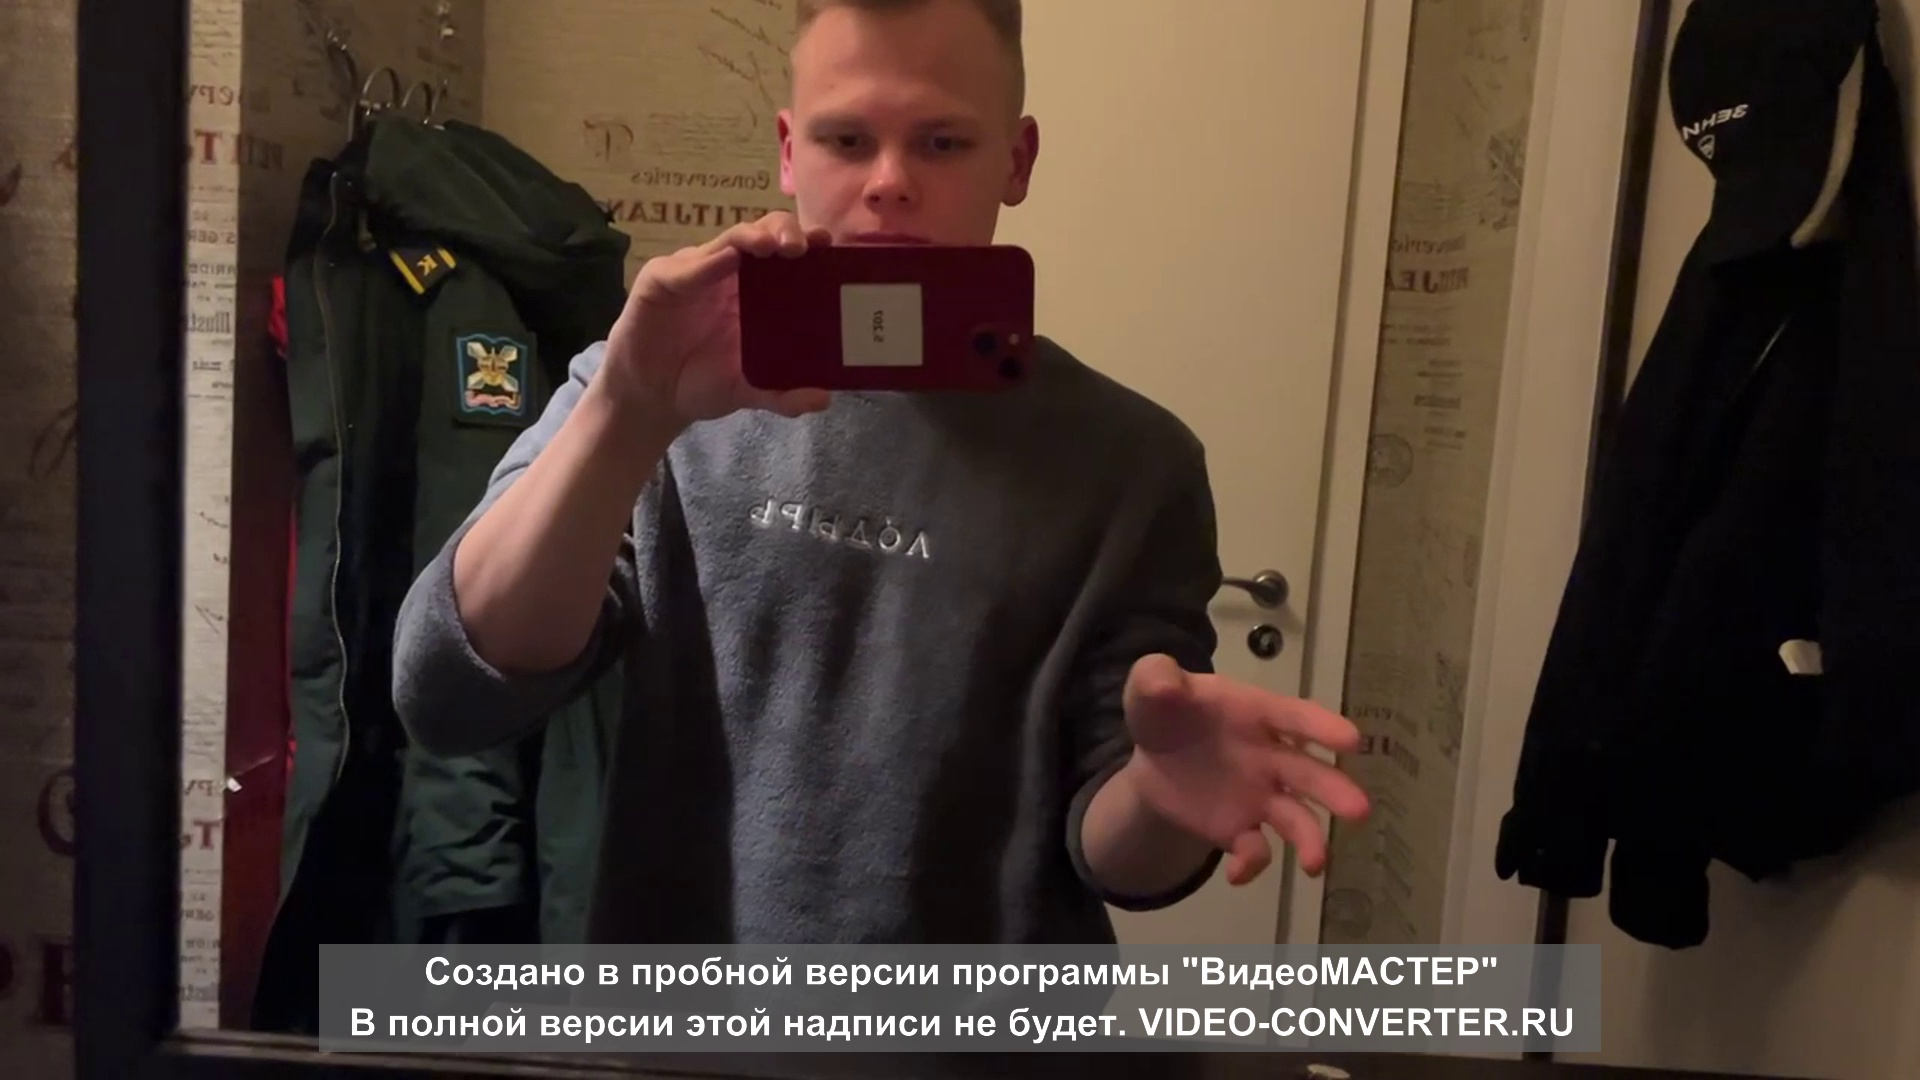Ладонь: (1117, 655, 1366, 885)
